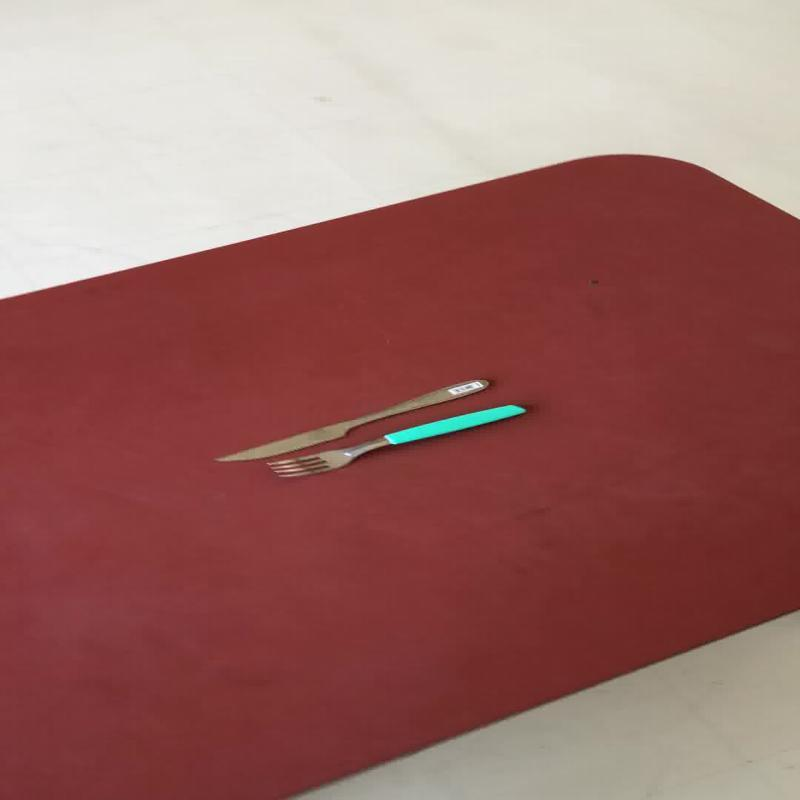fork: (264, 403, 526, 478)
knife: (210, 377, 490, 463)
